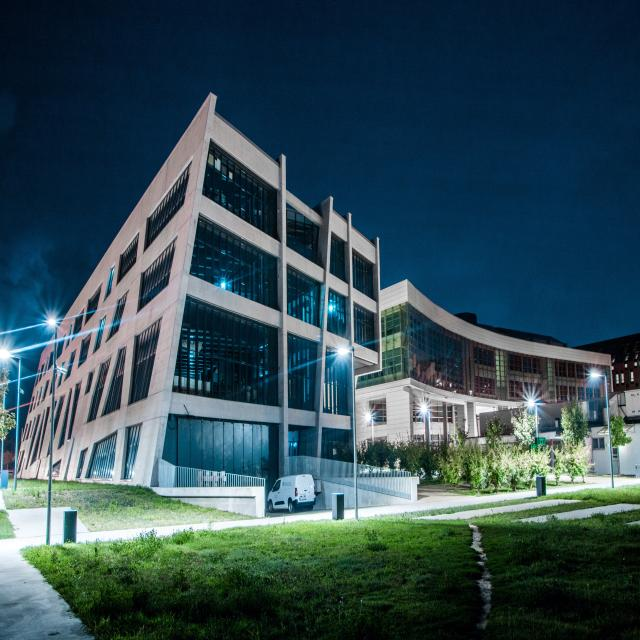Street Light: (337, 344, 359, 519), (44, 316, 60, 548), (0, 350, 22, 491), (589, 373, 615, 489), (526, 398, 542, 477), (365, 413, 376, 459)
